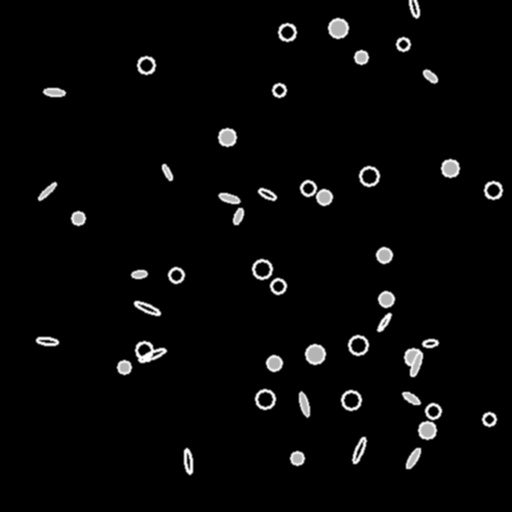pseudomonas: (351, 436, 367, 464), (138, 347, 166, 363), (133, 300, 161, 316), (404, 446, 422, 470), (37, 181, 57, 201), (409, 351, 423, 377), (297, 391, 311, 416), (376, 312, 392, 332), (218, 192, 240, 204), (183, 448, 193, 474), (422, 68, 438, 84), (258, 187, 276, 201), (402, 391, 420, 405), (232, 207, 244, 225), (408, 0, 420, 18), (161, 164, 173, 180), (36, 337, 58, 345), (44, 88, 64, 96), (422, 339, 438, 347), (131, 270, 147, 278)
synechocystis: (349, 336, 367, 354), (256, 390, 274, 408), (253, 260, 271, 278), (306, 345, 324, 363), (329, 19, 347, 37), (360, 167, 378, 185), (342, 391, 360, 409), (136, 342, 152, 358), (405, 349, 421, 365), (485, 182, 501, 198), (279, 24, 295, 40), (419, 422, 435, 438), (138, 57, 154, 73), (442, 160, 458, 176), (219, 129, 235, 145), (169, 268, 183, 282), (377, 248, 391, 262), (317, 190, 331, 204), (301, 181, 315, 195), (267, 356, 281, 370), (271, 279, 285, 293), (379, 292, 393, 306), (426, 404, 440, 418), (72, 212, 84, 224), (355, 51, 367, 63), (118, 361, 130, 373), (483, 413, 495, 425), (291, 452, 303, 464), (397, 38, 409, 50), (273, 84, 285, 96)
